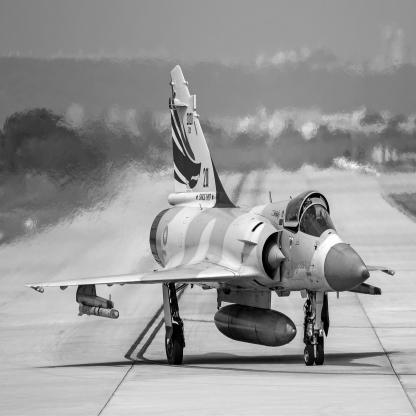Mirage2000: (19, 66, 396, 367)
